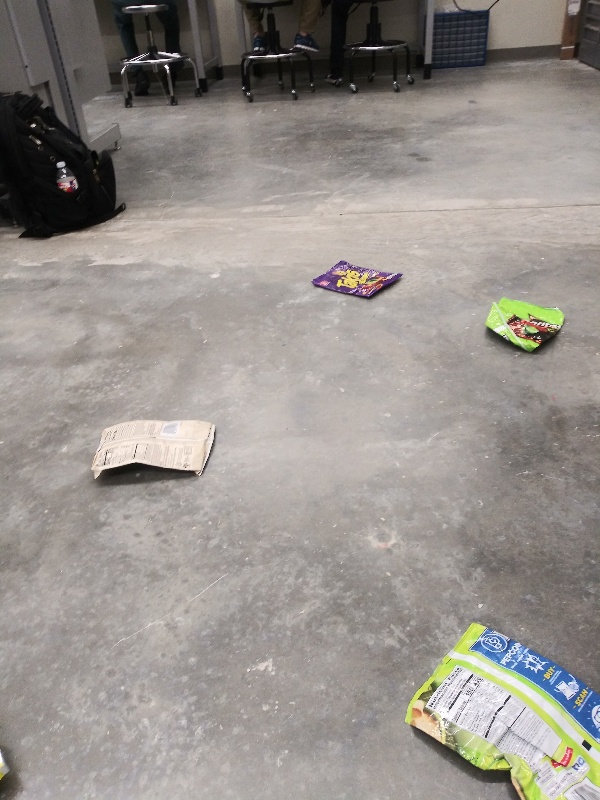bag: (400, 620, 598, 800), (88, 416, 218, 478), (481, 294, 567, 355), (309, 258, 405, 301)
bottle: (51, 155, 81, 193)
